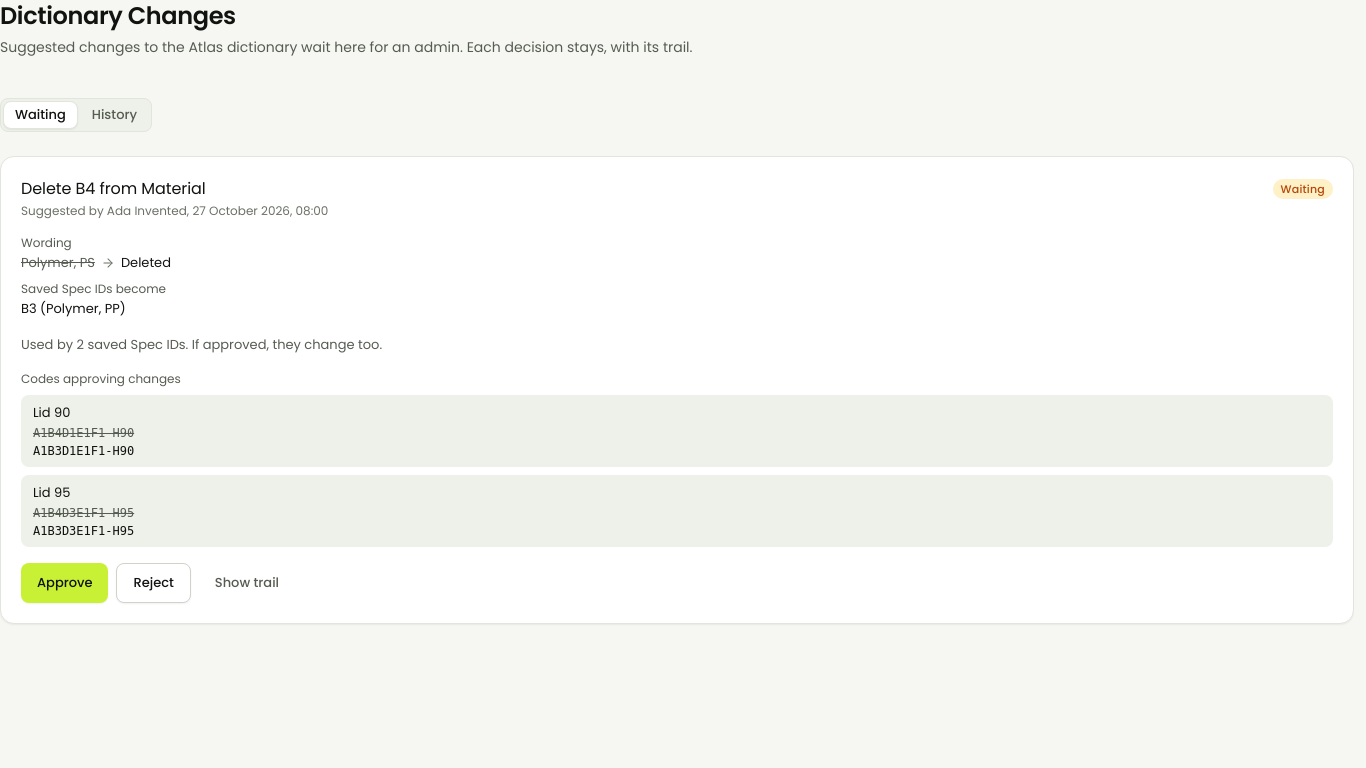
Test case: DictionaryChangesPage › rejects with the reason typed, and says the suggester sees it
Click the button "Reject" at (154, 583), box [116,563,191,603]
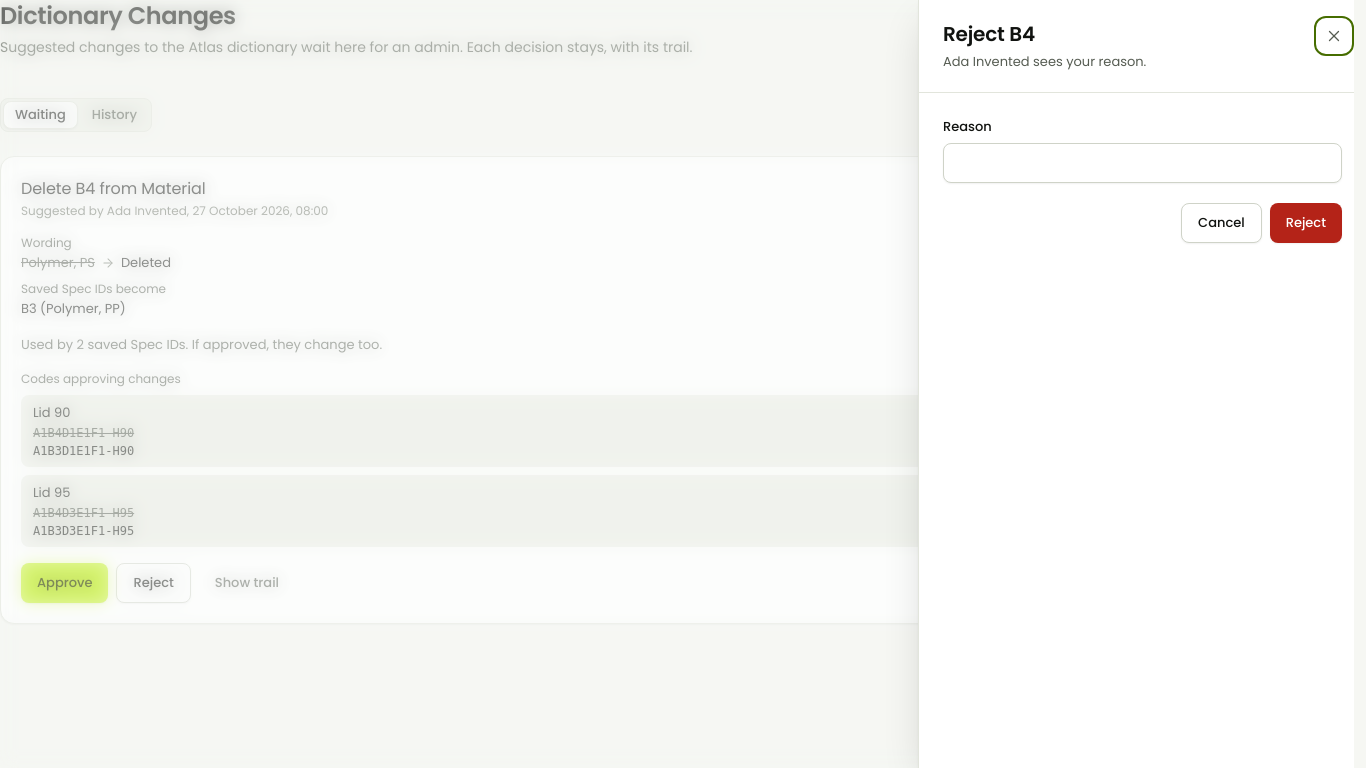
Type "We still need it." into the field labelled "Reason" at (1142, 163), box [943,143,1342,183]
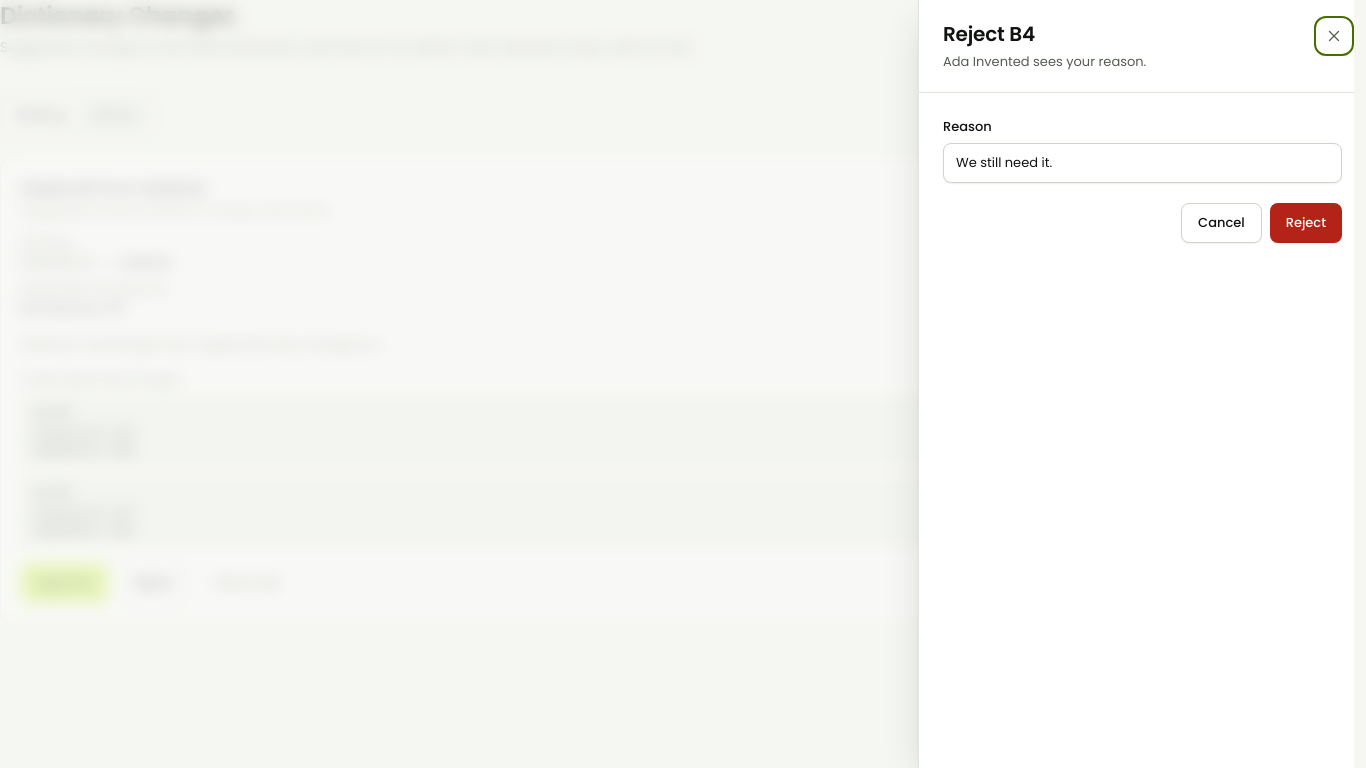
Click the button "Reject" at (1306, 223), box [1270,203,1342,243]
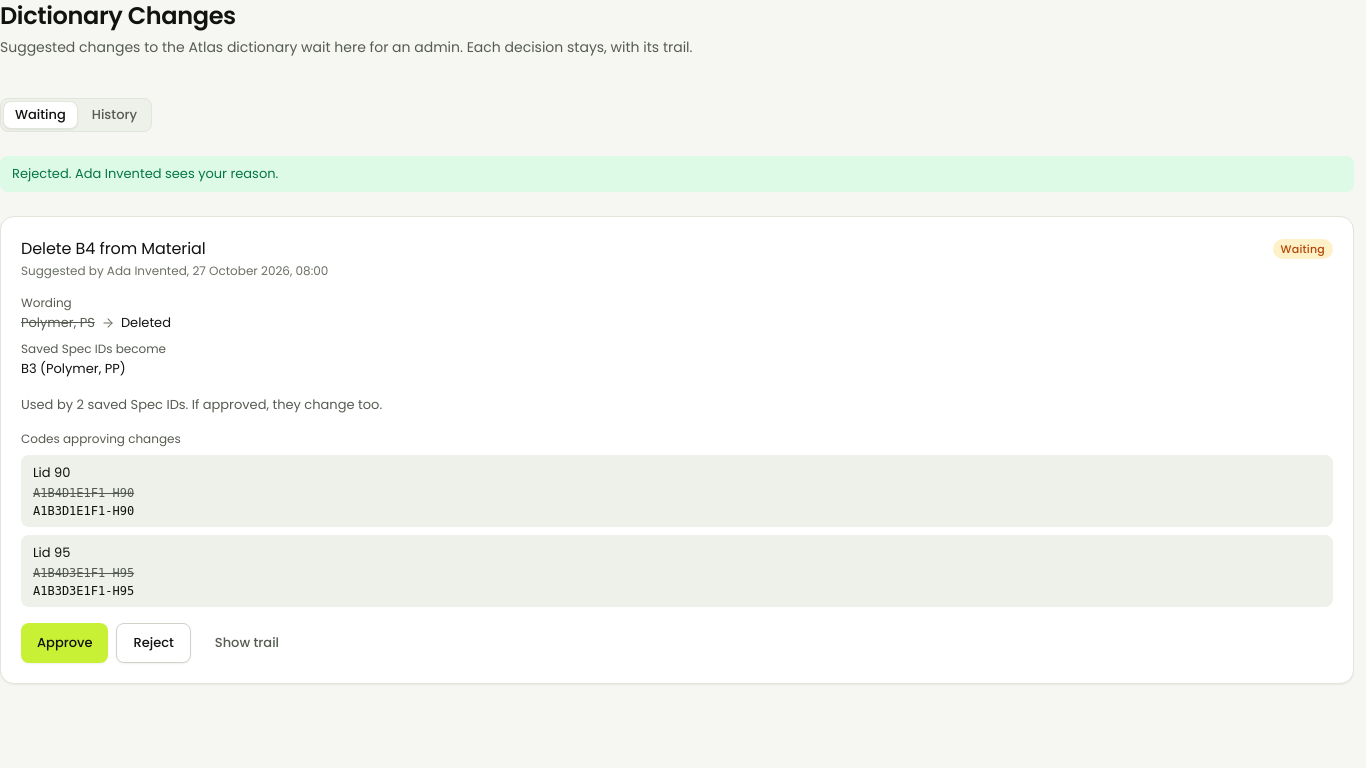
Expected: the text "Rejected. Ada Invented sees your reason." is shown, [0,156,1354,192]
